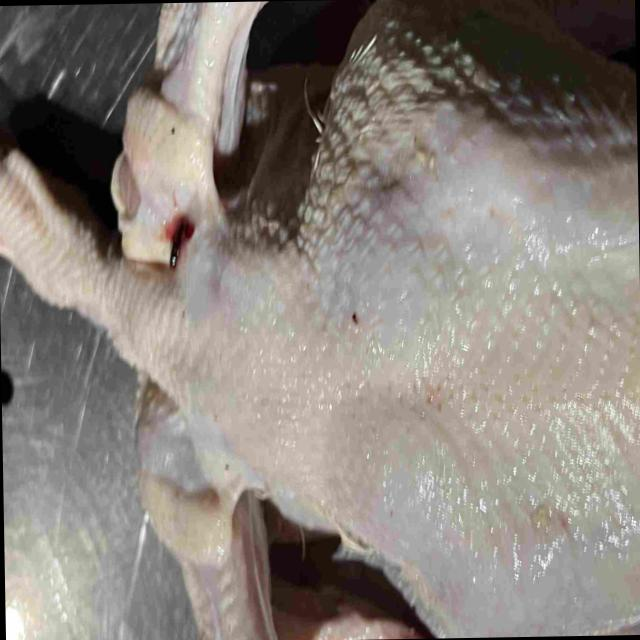back: (198, 92, 640, 550)
leg: (360, 0, 635, 62), (443, 566, 640, 637)
neck: (0, 127, 178, 403)
wing: (138, 399, 427, 640), (112, 1, 265, 258)
